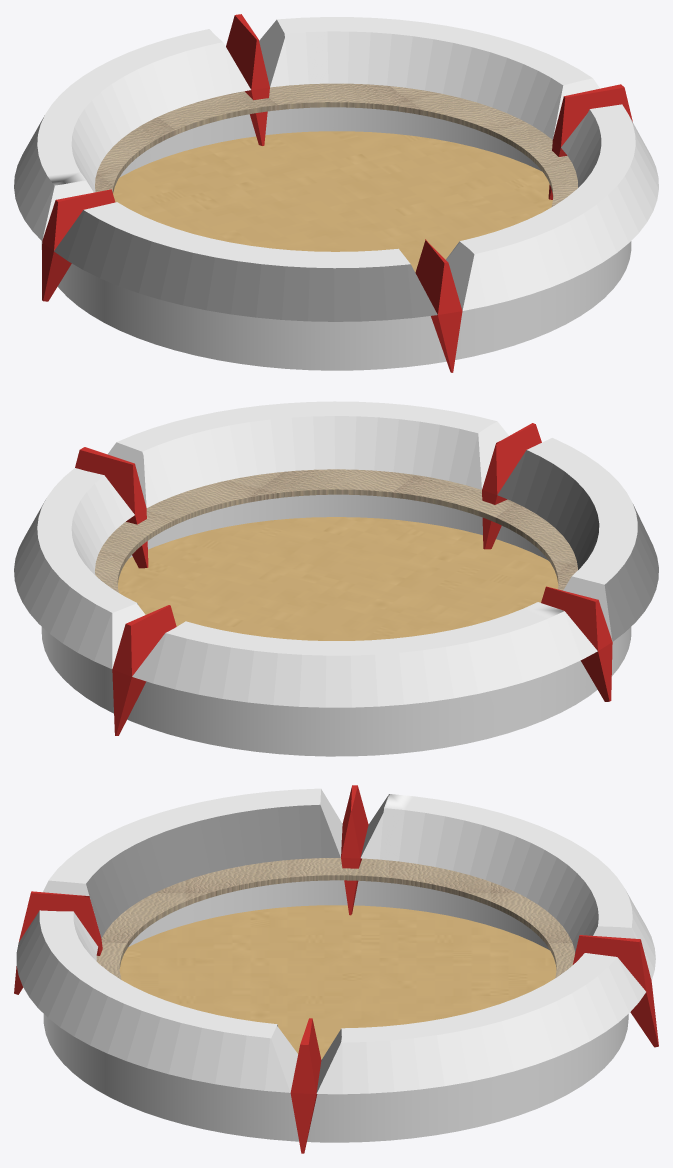
Rendered from Stadium.FBX.
The picture shows the model from 3 angles, top to bottom: view 1: azimuth 30°, elevation 25°; view 2: azimuth 150°, elevation 25°; view 3: azimuth 270°, elevation 25°; orthographic projection.
Visible parts, largest first — view 1: Tube001, Cylinder001, Tube002; view 2: Tube001, Cylinder001, Tube002; view 3: Tube001, Cylinder001, Tube002.
Part boxes in pixels (box(x1,y1,x2,y2)): Tube001: box(14, 14, 658, 372); Cylinder001: box(113, 131, 552, 272); Tube002: box(95, 83, 577, 207); Tube001: box(14, 401, 658, 756); Cylinder001: box(118, 517, 558, 640); Tube002: box(95, 469, 577, 592); Tube001: box(14, 785, 658, 1153); Cylinder001: box(119, 905, 556, 1059); Tube002: box(96, 858, 574, 979).
Size of the model in its own units: 202 by 36.23 by 200.
Materials: 34 (31 with a texture image).
